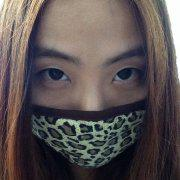WRONG: (26, 37, 159, 170)
